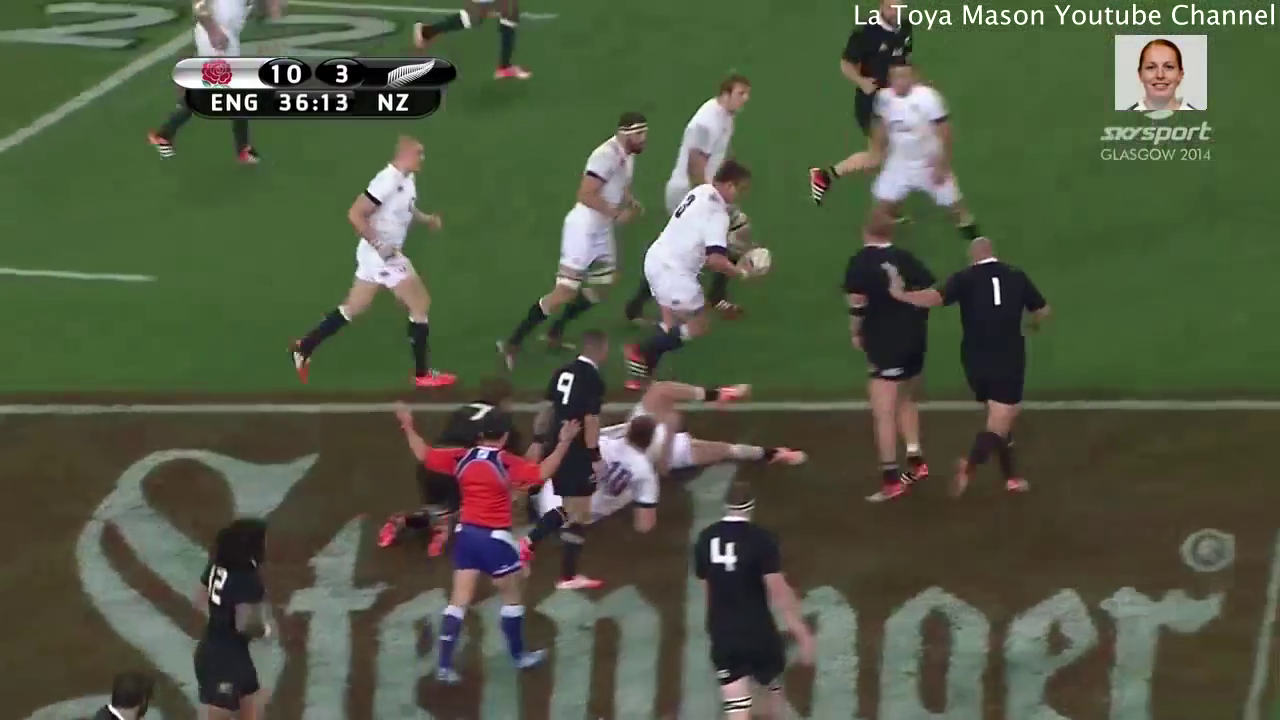ball: (724, 220, 783, 288)
player: (877, 224, 1050, 519), (282, 127, 467, 400), (381, 387, 550, 679), (489, 100, 655, 381), (610, 149, 781, 398), (674, 479, 823, 720), (829, 199, 938, 505), (792, 1, 931, 225), (540, 377, 827, 482), (853, 60, 1001, 263), (513, 320, 618, 604), (177, 500, 280, 720), (146, 1, 270, 176), (641, 56, 767, 228)
